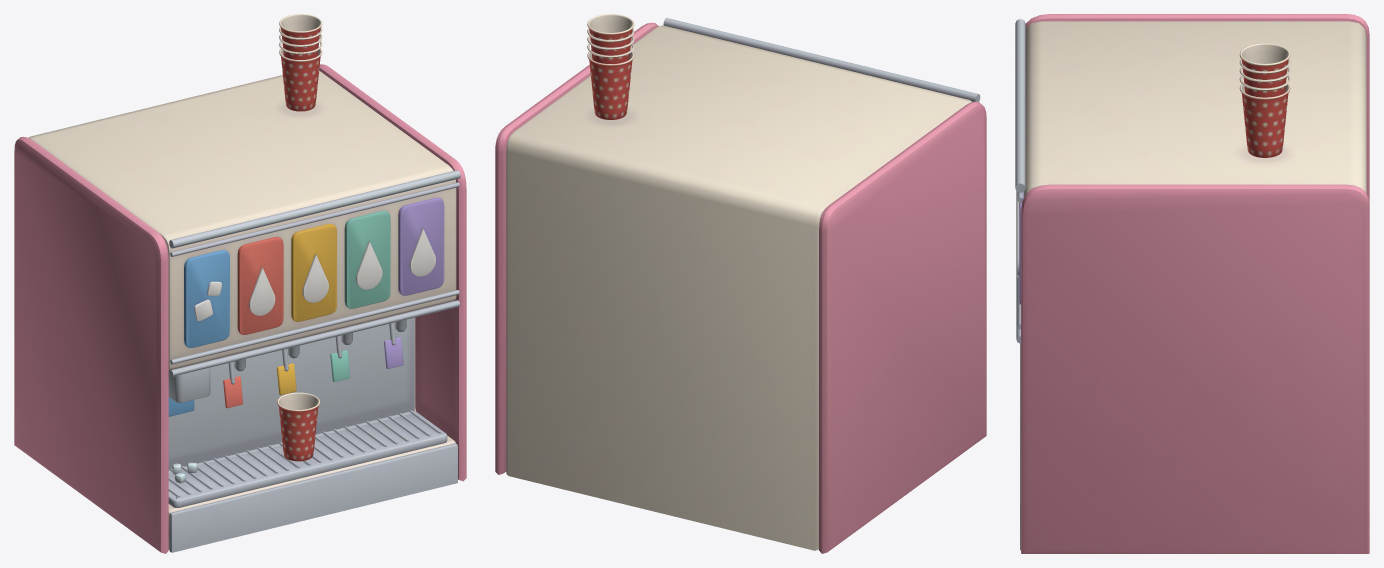
The model's file is soda-fountain.obj.
3 renders of one model, left to right at view 1: azimuth 30°, elevation 25°; view 2: azimuth 150°, elevation 25°; view 3: azimuth 270°, elevation 25°, orthographic. The views are drawn at different scales.
Parts seen in each view (by area): view 1: soda-fountain_body; view 2: soda-fountain_body; view 3: soda-fountain_body.
Boxes of the visible parts, bbox=[...] form: soda-fountain_body: bbox=[14, 14, 466, 553]; soda-fountain_body: bbox=[495, 14, 986, 553]; soda-fountain_body: bbox=[1015, 14, 1369, 553].
Size of the model in its own units: 0.72 by 0.8852 by 0.61.
1 material, 1 textured.
